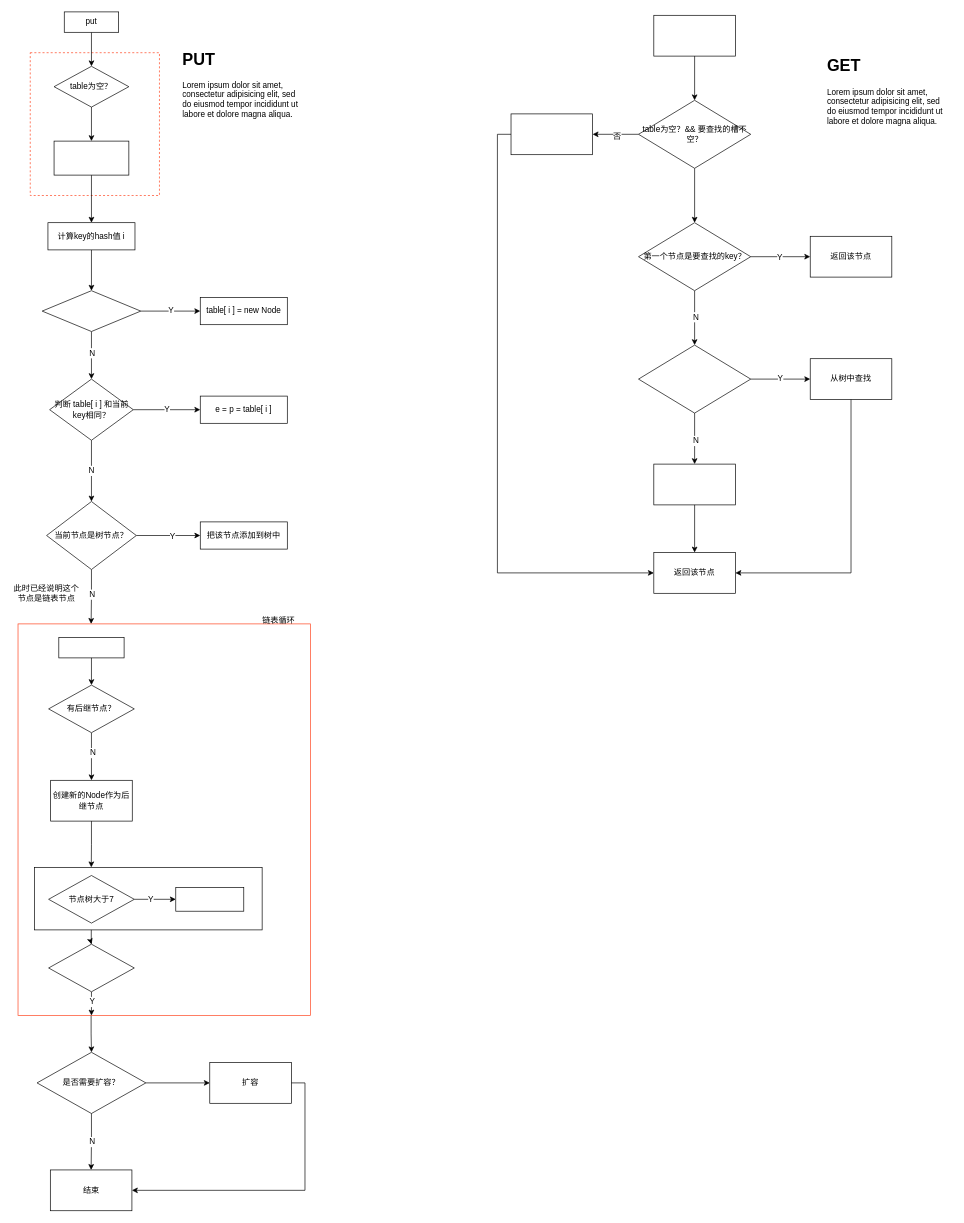
This 964x1223 diagram has some shape labels left out. Here are the shapes that lost their labels. From the top down, the centre of each, then its label:
the point at 694,35: Get
the point at 551,134: 返回 null
the point at 91,157: 调用resize，可以初始化table
the point at 91,311: 槽 ( table[ i ] ) 空？
the point at 694,378: 是树节点？
the point at 694,484: 从链表中查找
the point at 91,647: 当前节点table[ i ]
the point at 209,899: 转成红黑树
the point at 91,968: 找到当前key？
